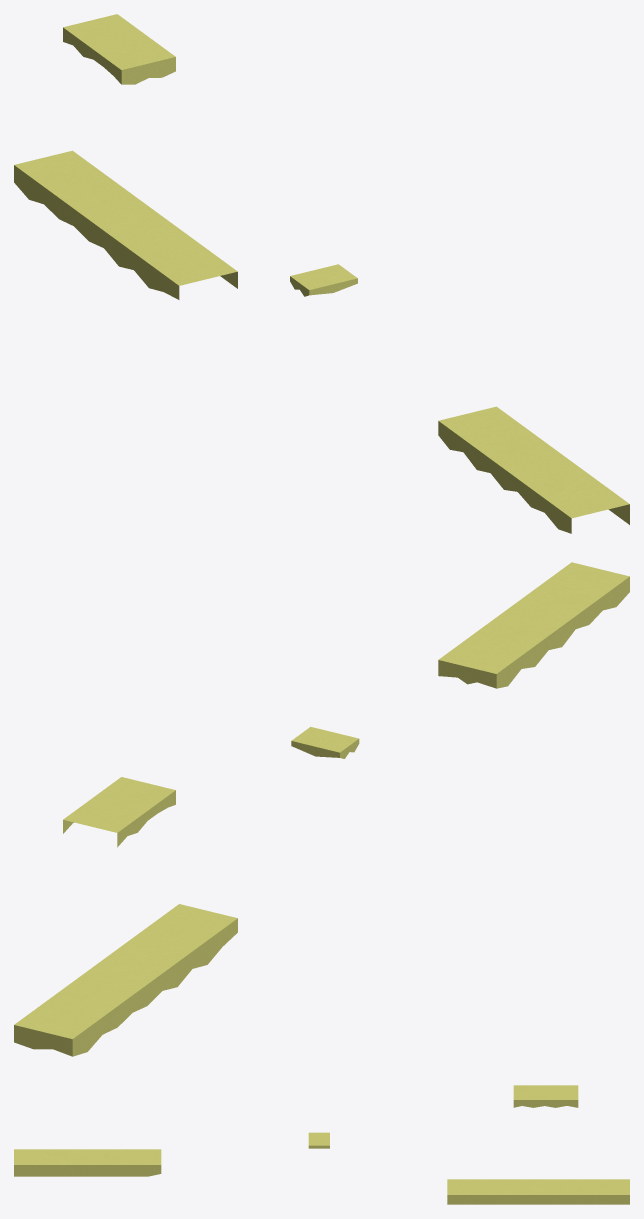
The model's file is Pantalla_4_suelo.fbx.
3 renders of one model, top to bottom at view 1: azimuth 30°, elevation 25°; view 2: azimuth 150°, elevation 25°; view 3: azimuth 270°, elevation 25°, orthographic. The views are drawn at different scales.
Visible parts, largest first — view 1: Pantalla_4.002; view 2: Pantalla_4.002; view 3: Pantalla_4.002.
Part boxes in pixels (bbox=[...]): Pantalla_4.002: bbox=[14, 14, 629, 533]; Pantalla_4.002: bbox=[14, 562, 629, 1056]; Pantalla_4.002: bbox=[14, 1085, 629, 1204].
Bounding box in the file's own units: 491 × 1569 × 8085.
